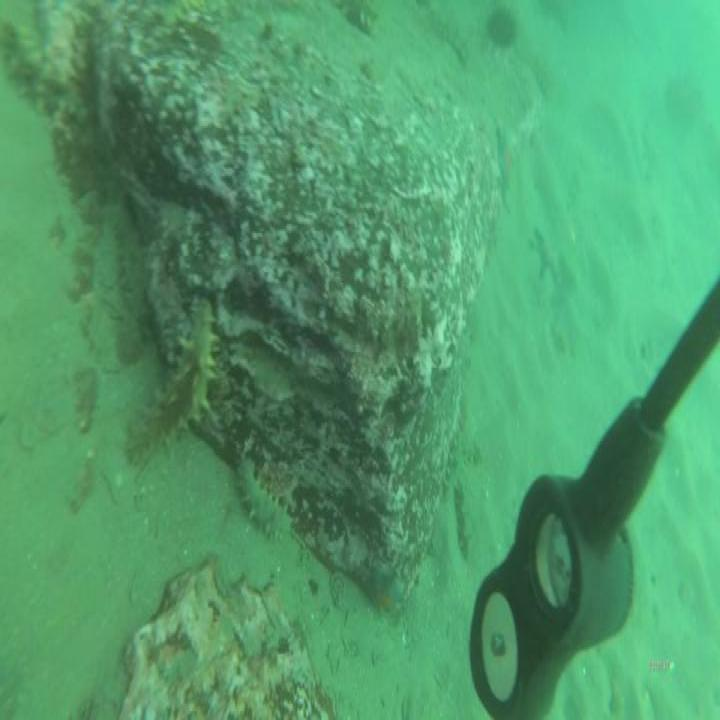echinus: (482, 2, 519, 57)
holothurian: (121, 288, 220, 480), (233, 448, 295, 549), (453, 476, 474, 562)
starfish: (367, 556, 407, 618)
